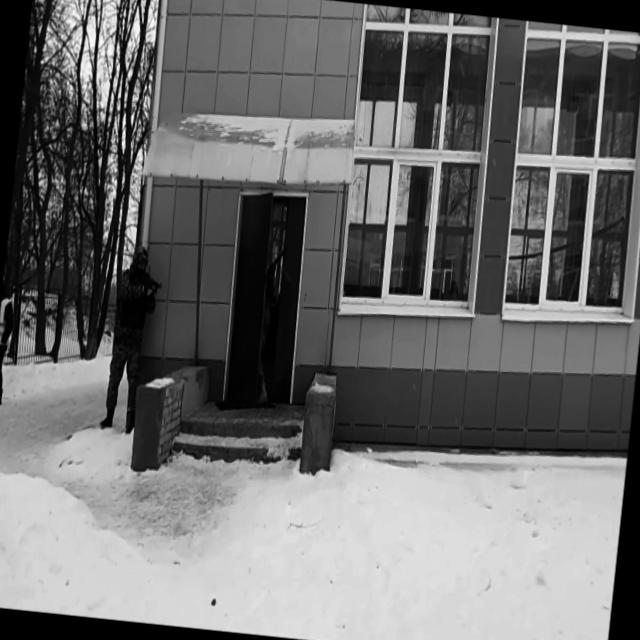gun: (130, 266, 164, 296)
person: (0, 283, 17, 408)
person with a gun: (98, 241, 167, 436)
